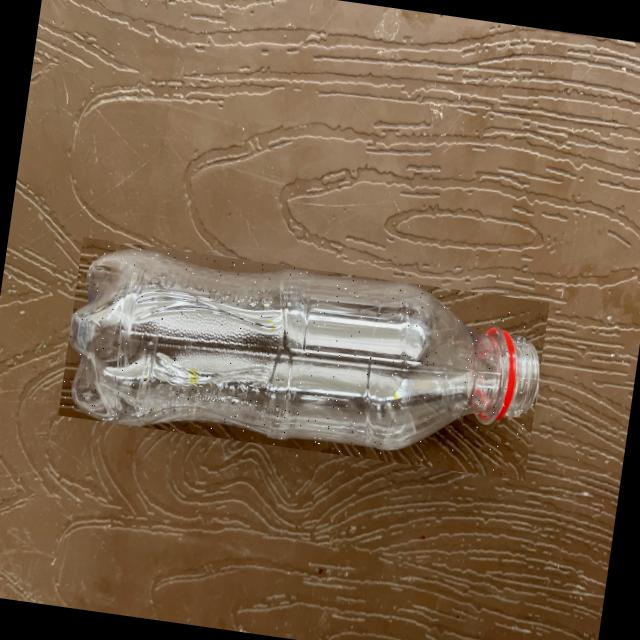PET_With_Cap: (70, 249, 540, 448)
